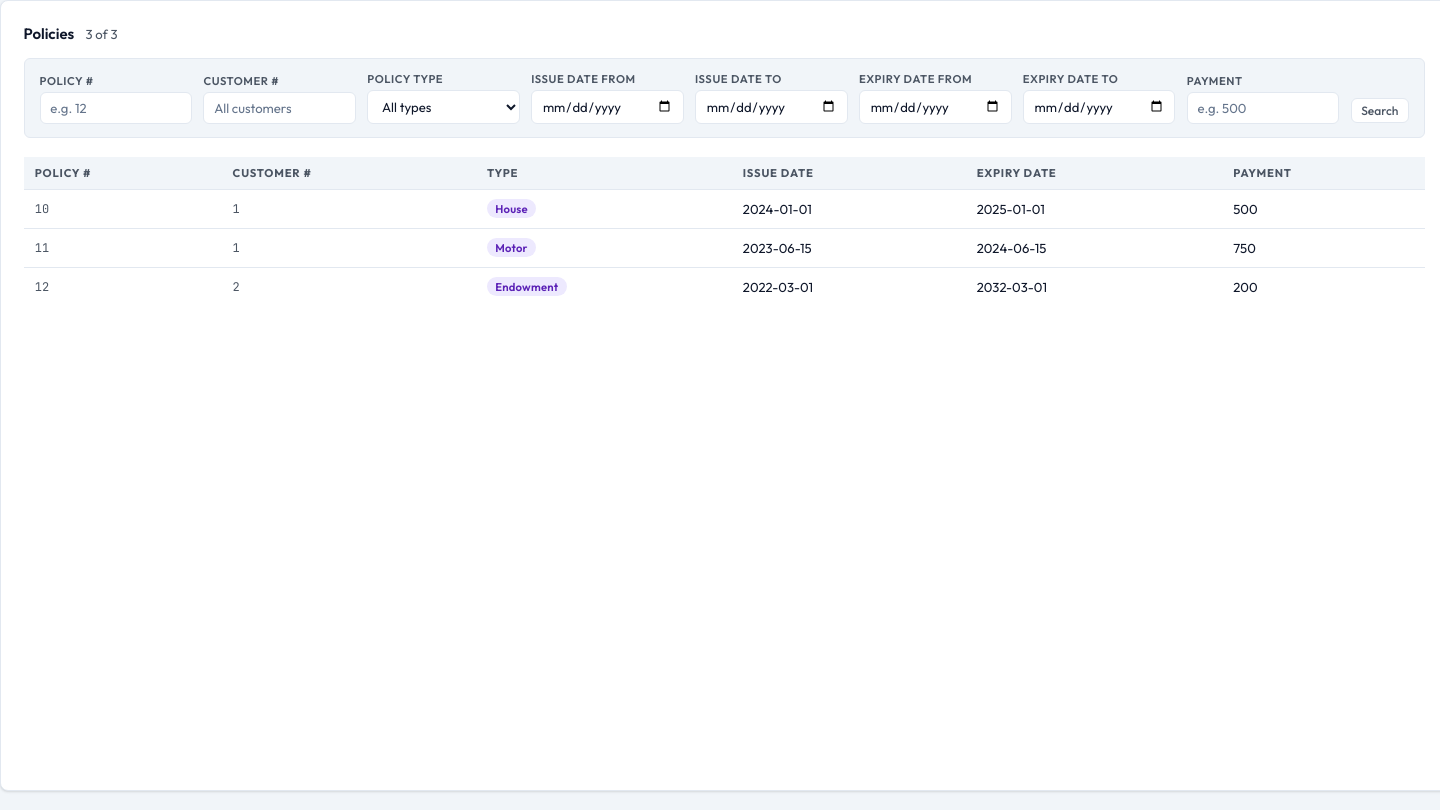
PolicyList – detail panel › clicking a row opens the detail panel and fetches detail
Click the row "10 1 House 2024-01-01 2025-01-01 500": (724, 208) [24,189,1425,228]
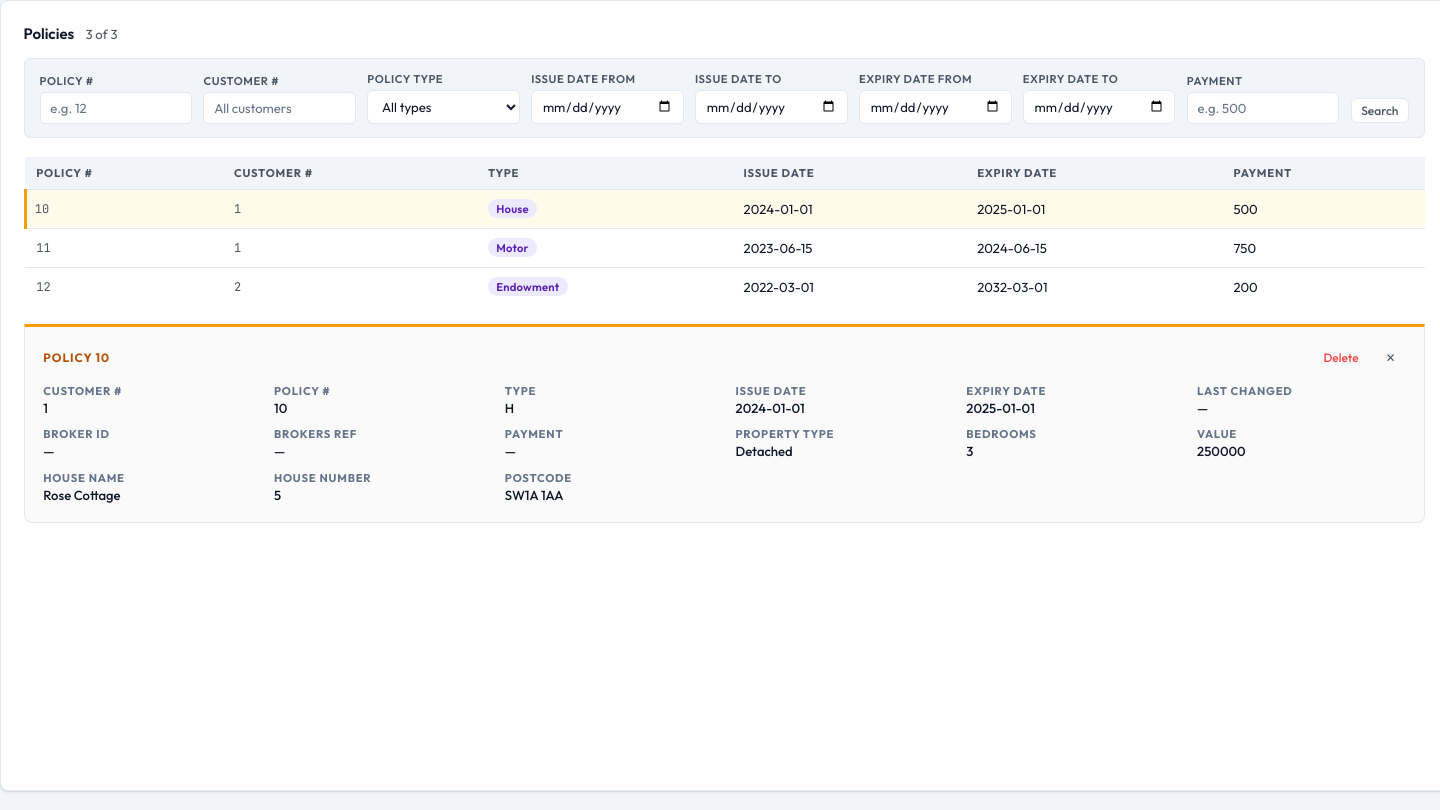
Expected: the text "Policy 10" is shown, [43,350,110,365]
